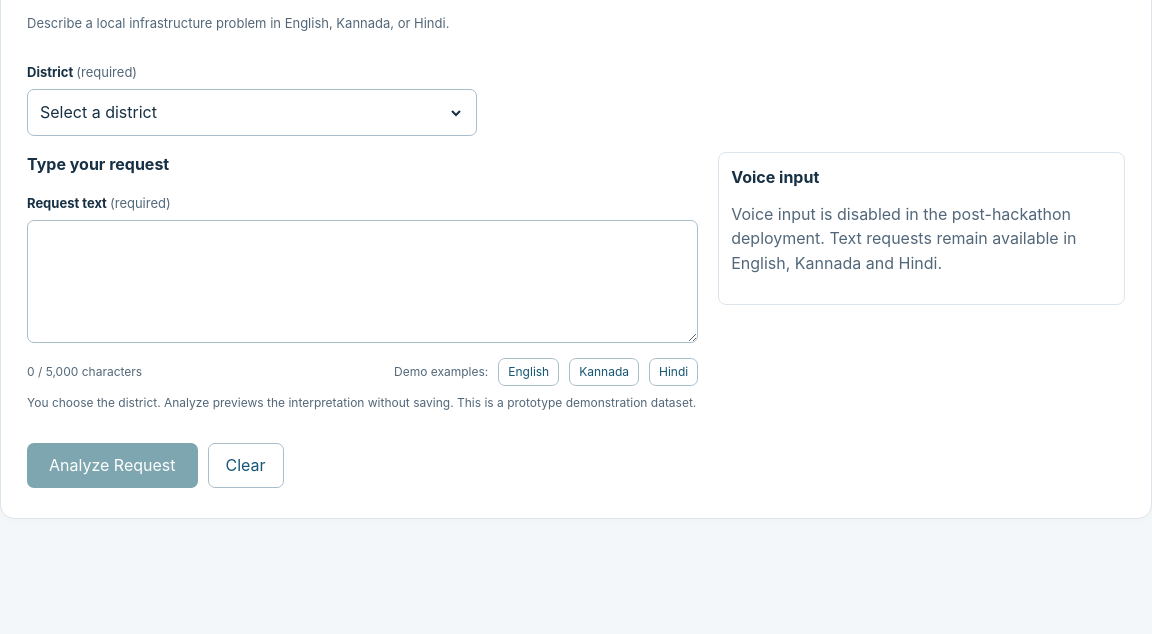
it: analyze sends text and selected district and shows preview/null location with zero creates
Select "Bengaluru Rural · Karnataka" in the dropdown labelled "District (required)" at coordinates (252, 113), box [27,89,477,136]
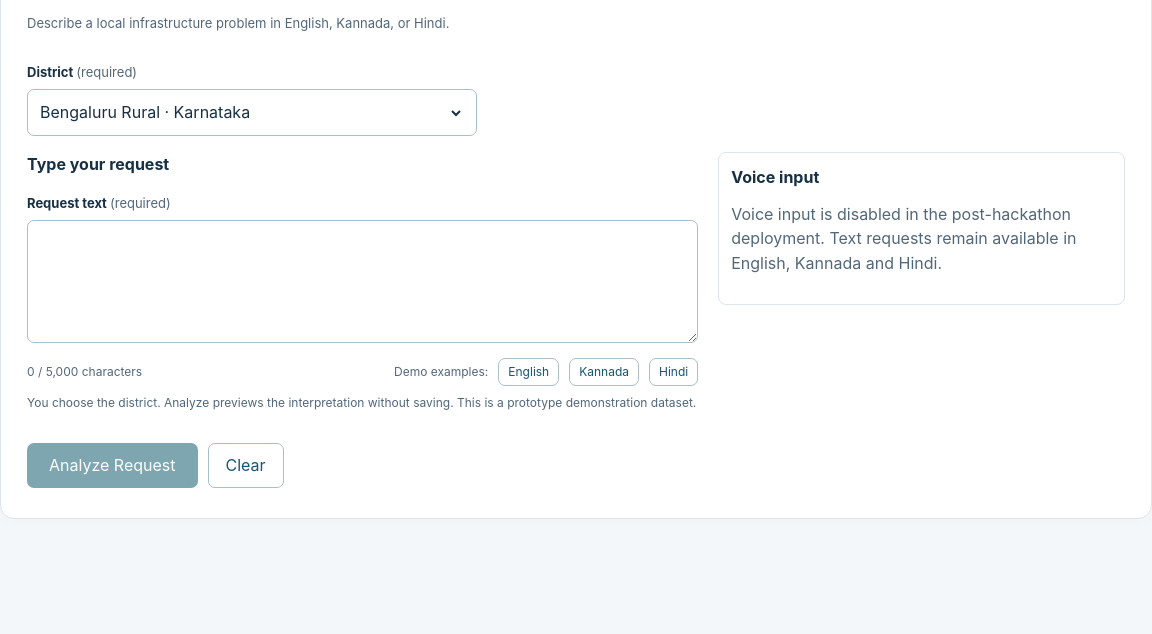
Type "Village water has stopped." into the text box labelled "Request text (required)" at coordinates (363, 281), box [27,220,698,343]
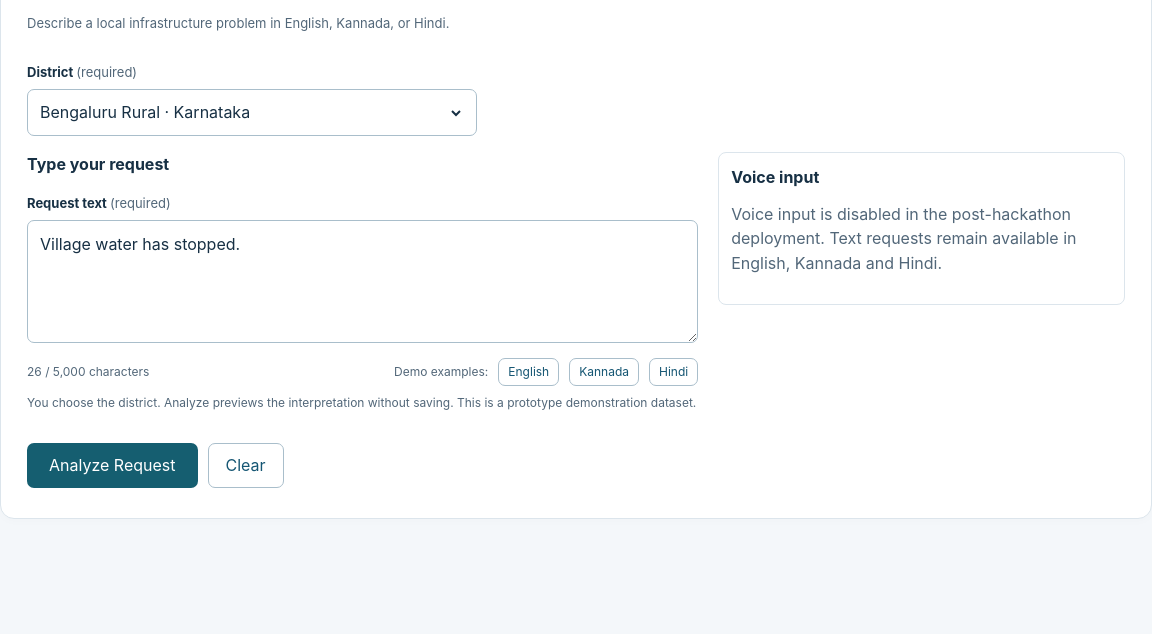
Click the button "Analyze Request" at coordinates (112, 465), box [27,443,198,488]
(page scrolled)
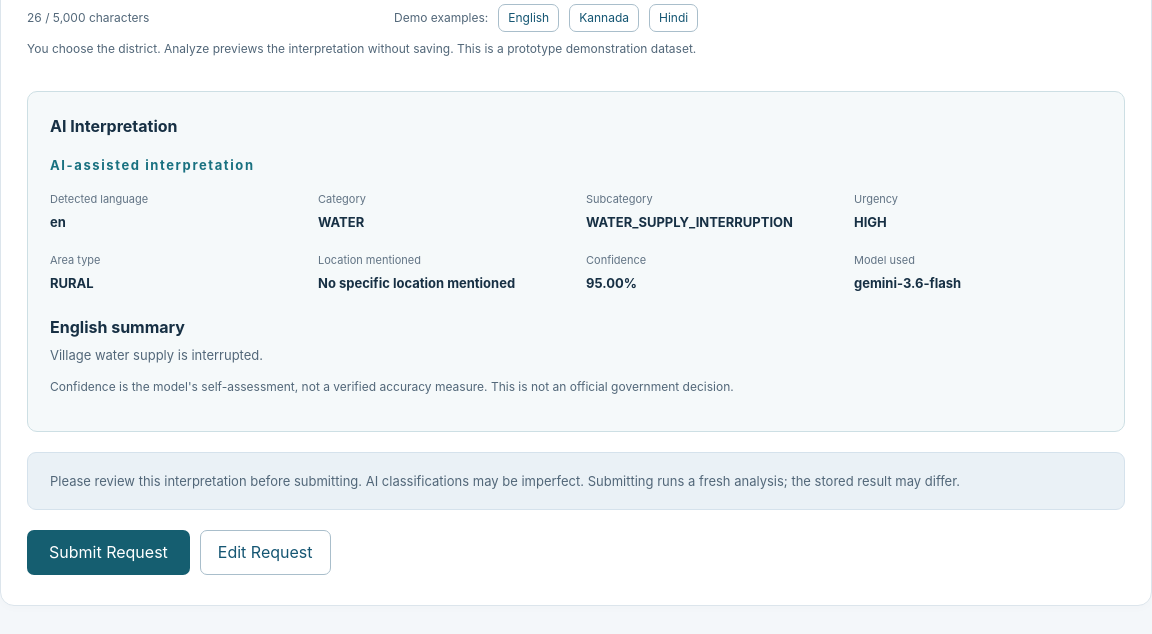
Check: the heading "AI Interpretation" is shown, box [50,116,178,136]
Check: the text "No specific location mentioned" is shown, box [318,275,515,291]
Check: the text "gemini-3.6-flash" is shown, box [854,275,961,291]
